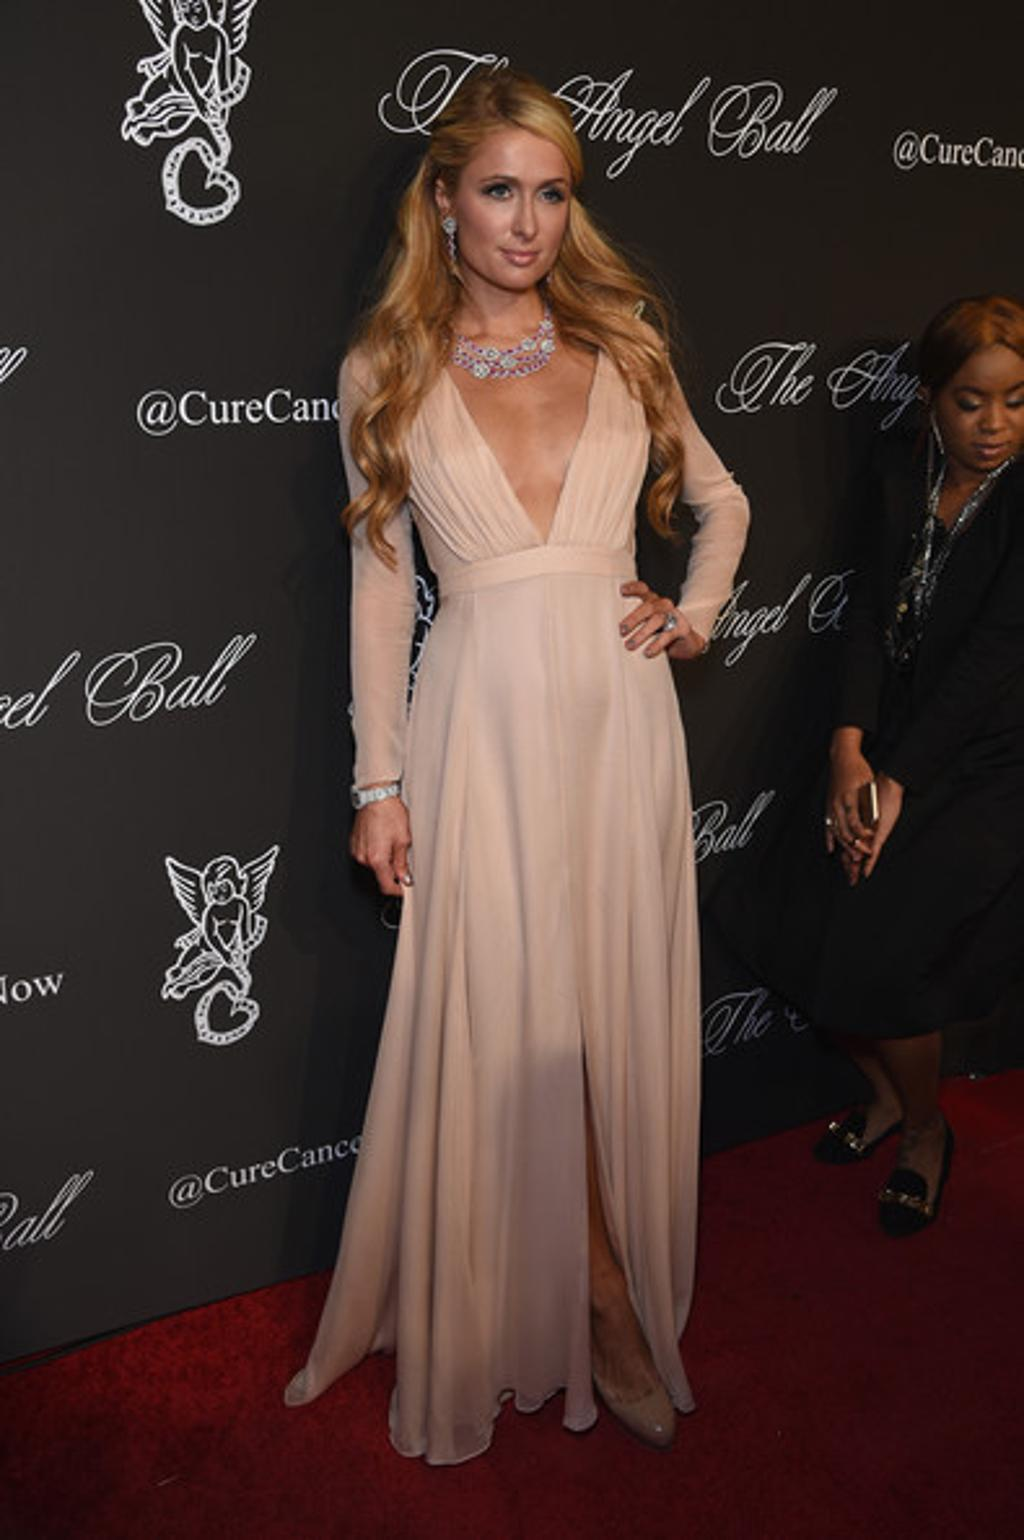face: (461, 133, 575, 293), (943, 343, 1021, 469)
